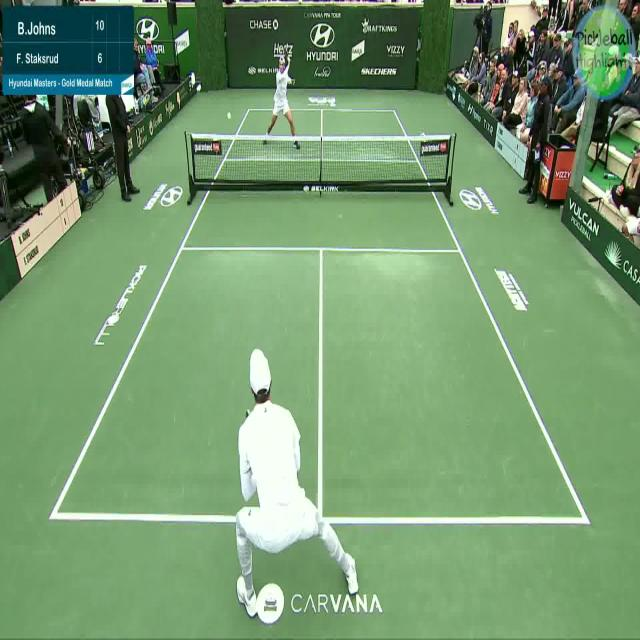ball: (225, 108, 235, 125)
